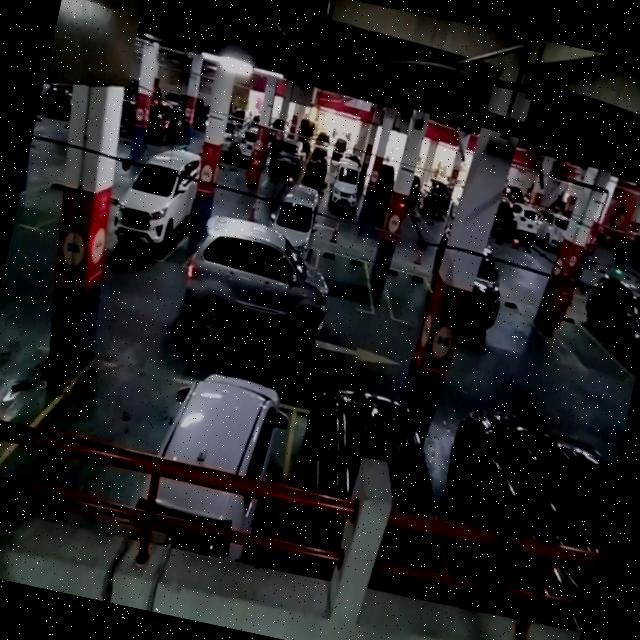empty: (13, 345, 191, 545), (306, 244, 382, 314), (376, 262, 434, 328)
occupied: (258, 400, 456, 598), (144, 374, 302, 566), (104, 160, 198, 268)
